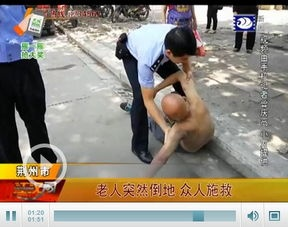falling: (147, 73, 222, 173)
